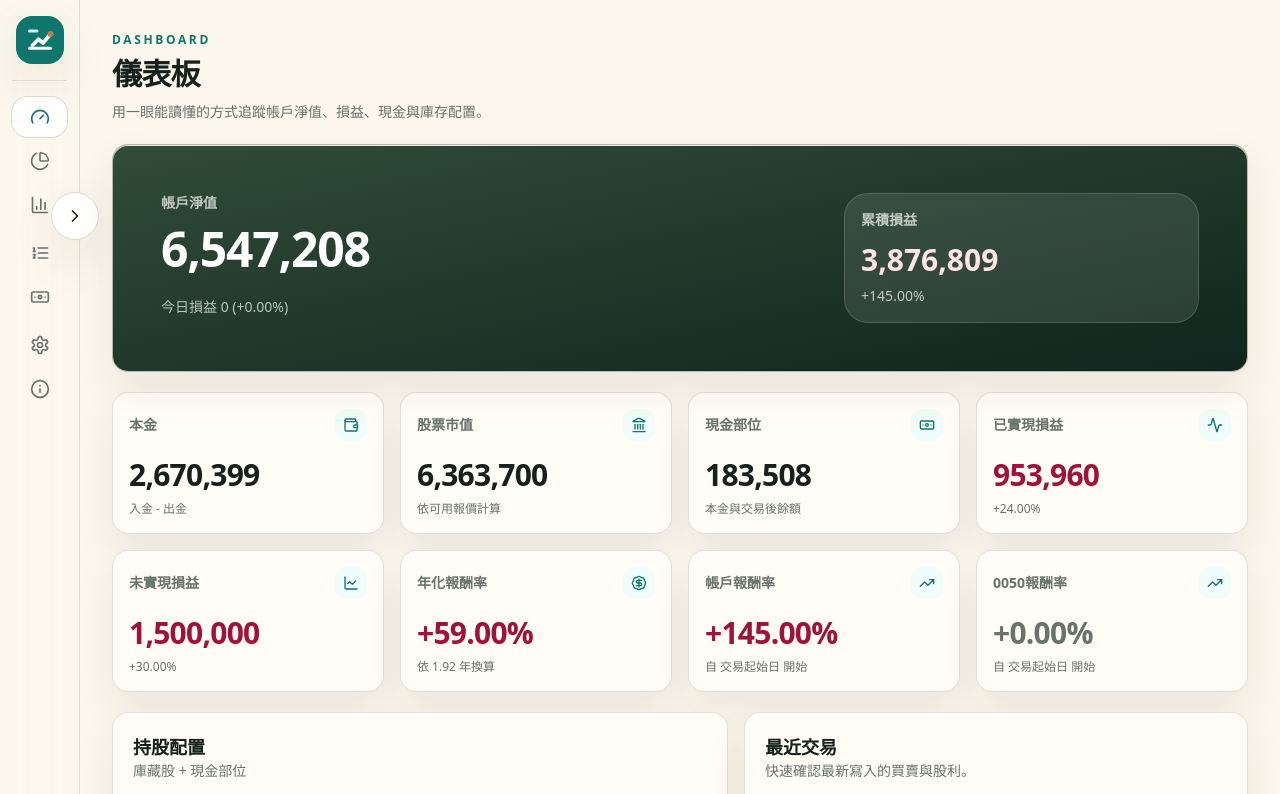
App › ignores stale stock search responses so the latest exact input still wins
Click the link named "交易紀錄": x=40, y=253 [30, 243, 50, 263]
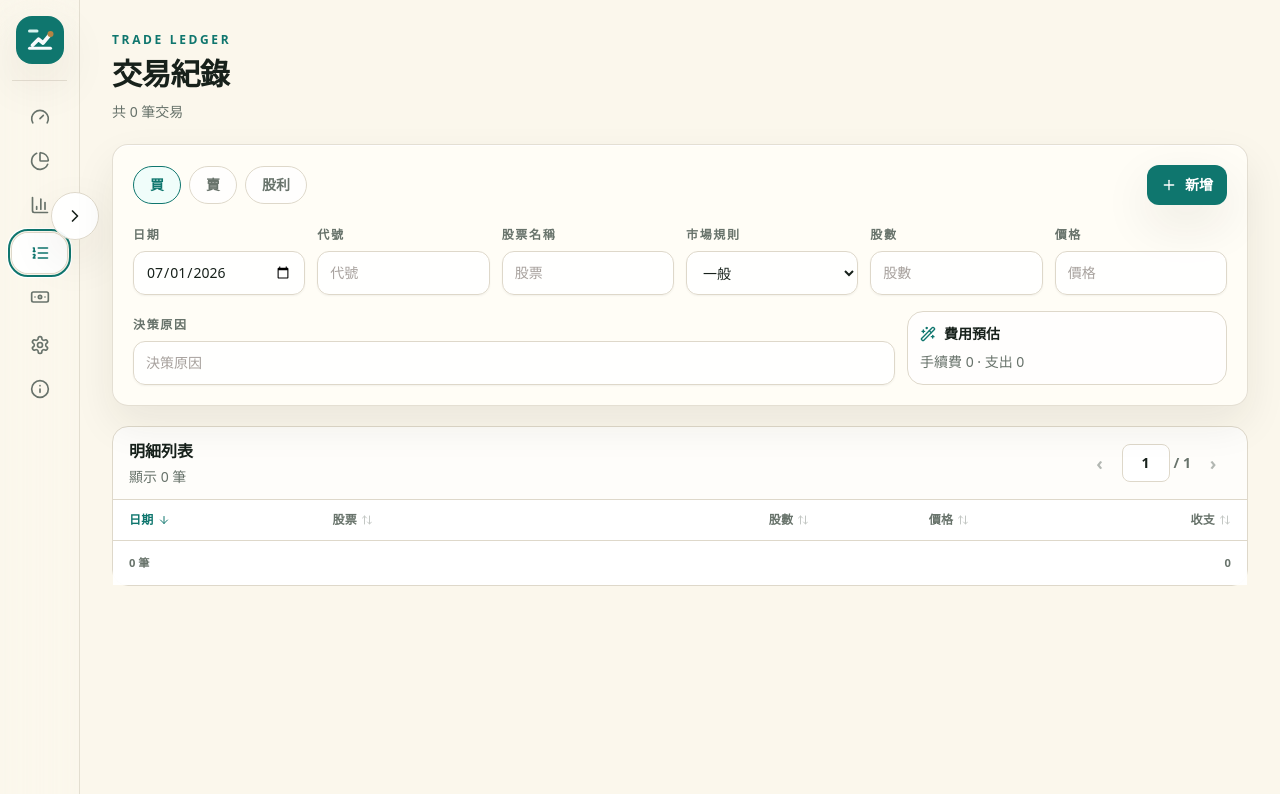
In the field with placeholder "代號": x=403, y=273 [317, 251, 490, 295], type "2330"
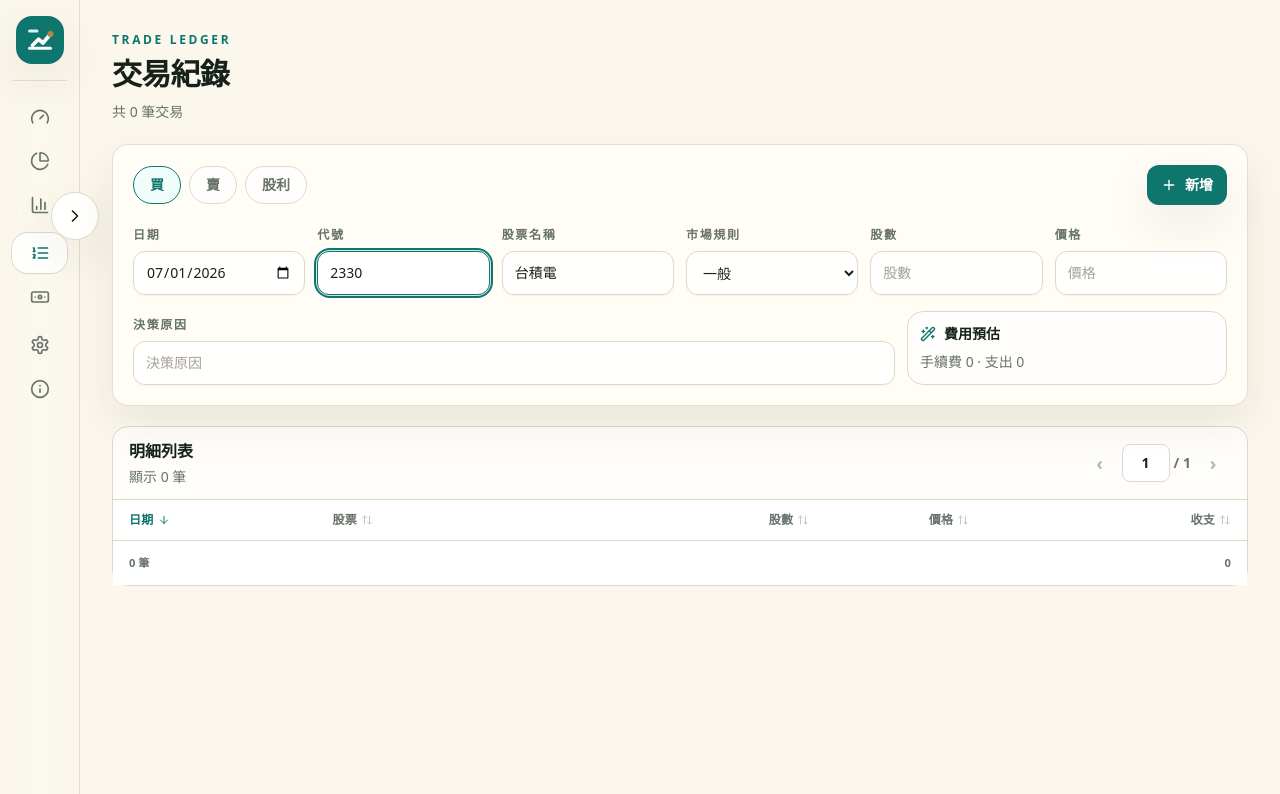
Result: the field showing "台積電" below "股票名稱" holds "台積電" at [502, 251, 674, 295]
